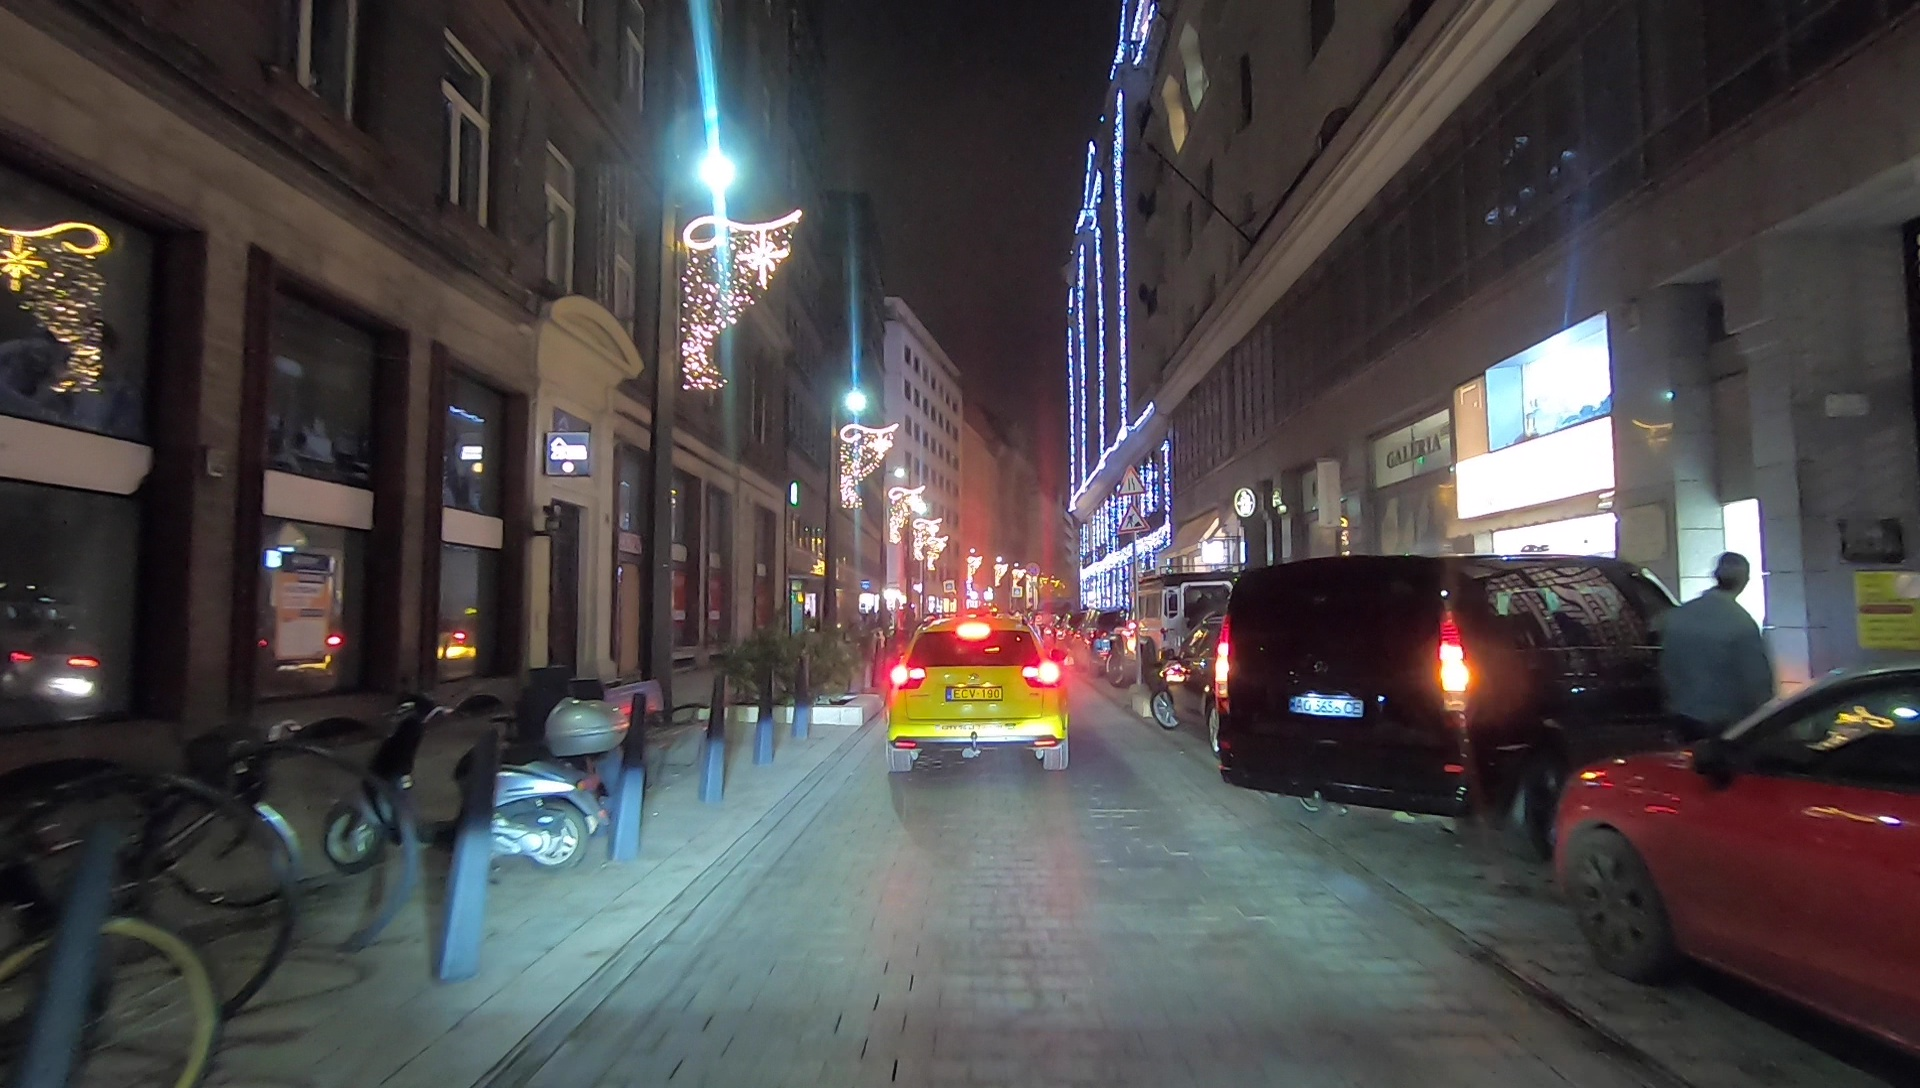person: (1654, 547, 1775, 837)
